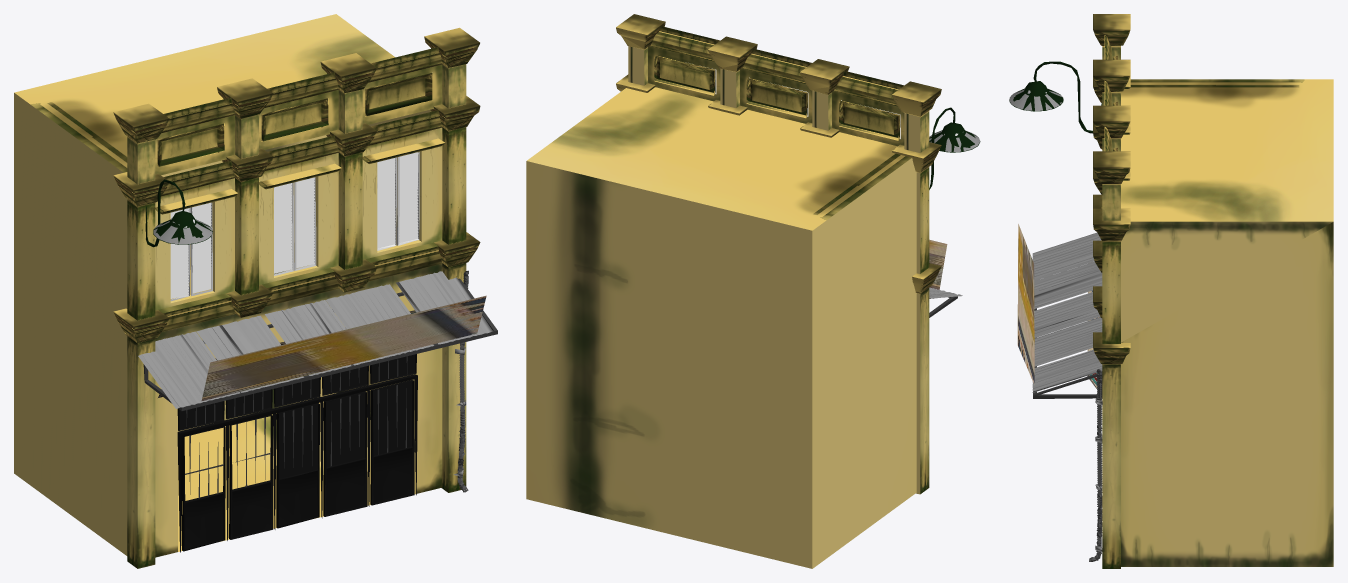
Rendered from nhahanoinew2.fbx.
The picture shows the model from 3 angles, left to right: view 1: azimuth 30°, elevation 25°; view 2: azimuth 150°, elevation 25°; view 3: azimuth 270°, elevation 25°; orthographic projection. The views are drawn at different scales.
Visible parts, largest first — view 1: Cube.005; view 2: Cube.005; view 3: Cube.005.
Part boxes in pixels (x1,y1,x2,y2): Cube.005: [14, 14, 497, 568]; Cube.005: [526, 14, 980, 568]; Cube.005: [1009, 14, 1333, 568].
Size of the model in its own units: 2104 by 2536 by 1839.
11 materials, 2 textured.
